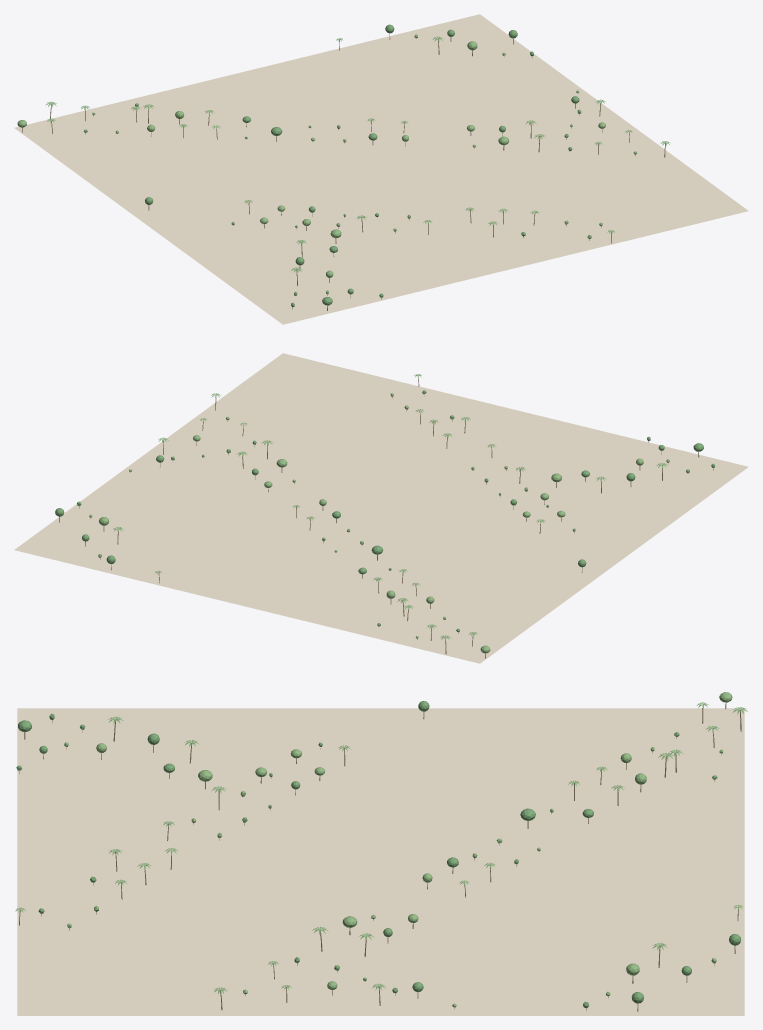
The model's file is nature_-5_-6.glb.
3 views of the same model, one above another, from view 1: azimuth 30°, elevation 25°; view 2: azimuth 150°, elevation 25°; view 3: azimuth 270°, elevation 25° (orthographic). The views are drawn at different scales.
Parts seen in each view (by area): view 1: ground, foliage_a, foliage_b, palm_leaf, trunk; view 2: ground, foliage_a, foliage_b, palm_leaf, trunk; view 3: ground, foliage_a, foliage_b, palm_leaf, trunk.
Boxes of the visible parts, x1,y1,x2,y2 form: ground: [14, 14, 748, 324]; foliage_a: [84, 24, 591, 307]; foliage_b: [17, 34, 637, 293]; palm_leaf: [45, 36, 669, 272]; trunk: [22, 33, 665, 310]; ground: [14, 353, 748, 663]; foliage_a: [55, 390, 714, 631]; foliage_b: [89, 393, 669, 653]; palm_leaf: [113, 374, 667, 640]; trunk: [59, 377, 713, 658]; ground: [17, 708, 744, 1015]; foliage_a: [16, 701, 740, 1008]; foliage_b: [64, 692, 732, 1007]; palm_leaf: [15, 702, 747, 993]; trunk: [19, 703, 741, 1011].
Size of the model in its own units: 252 by 8.91 by 253.
